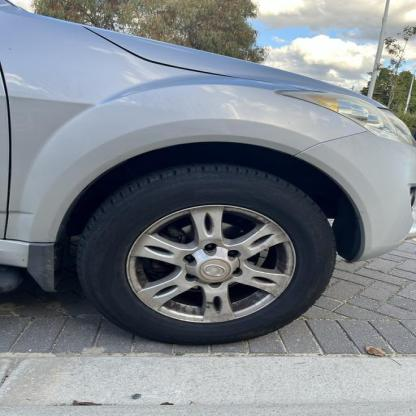Tire: (77, 161, 337, 345)
